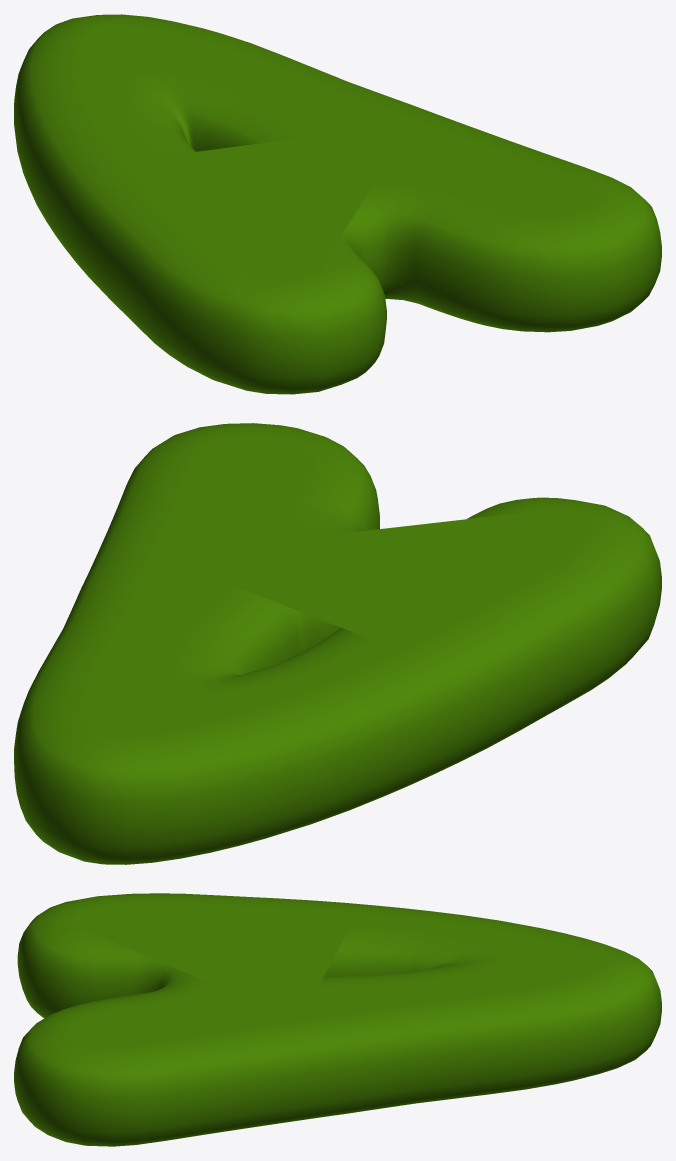
3 views of the same model, one above another, from view 1: azimuth 30°, elevation 25°; view 2: azimuth 150°, elevation 25°; view 3: azimuth 270°, elevation 25° (orthographic). The views are drawn at different scales.
Parts seen in each view (by area): view 1: Curve.002; view 2: Curve.002; view 3: Curve.002.
Part boxes in pixels (bbox=[...]): Curve.002: bbox=[14, 14, 661, 394]; Curve.002: bbox=[14, 423, 661, 864]; Curve.002: bbox=[14, 893, 661, 1146].
Bounding box in the file's own units: 232 × 49.54 × 329.
1 material, 1 textured.
